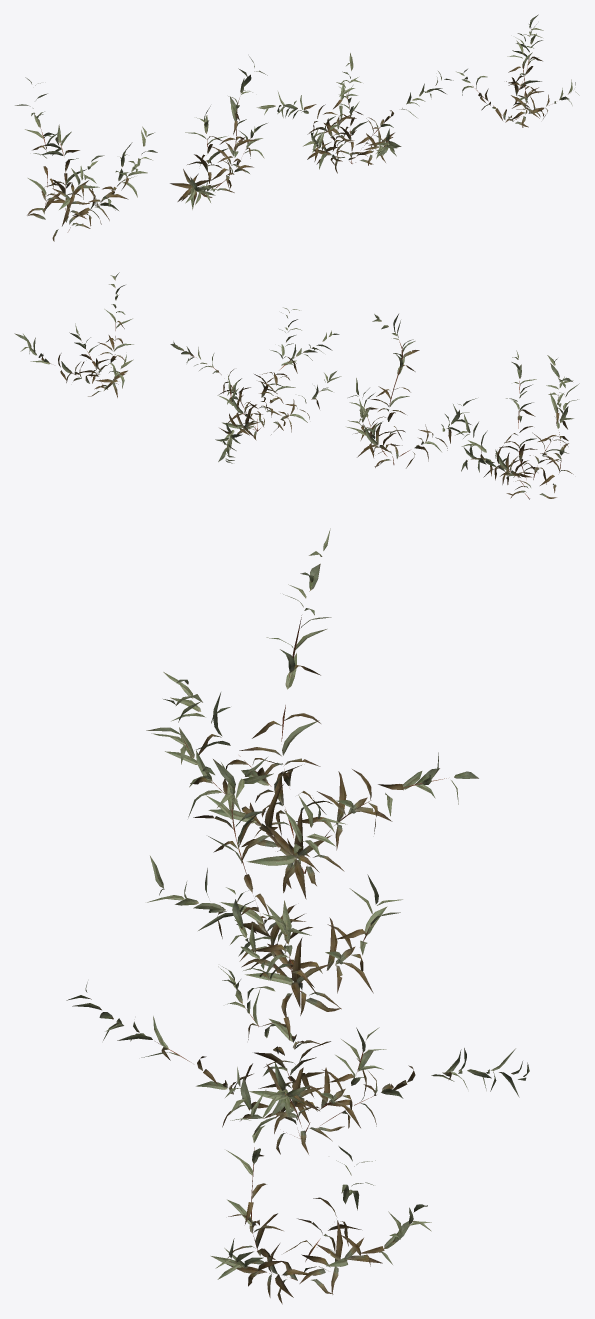
The model's file is buisson_sauvage_lod1.glb.
The picture shows the model from 3 angles, top to bottom: view 1: azimuth 30°, elevation 25°; view 2: azimuth 150°, elevation 25°; view 3: azimuth 270°, elevation 25°; orthographic projection. The views are drawn at different scales.
Parts seen in each view (by area): view 1: shrub_02_a; view 2: shrub_02_a; view 3: shrub_02_a.
Boxes of the visible parts, box(x1,y1,x2,y2) form: shrub_02_a: box(15, 14, 579, 241); shrub_02_a: box(14, 272, 579, 499); shrub_02_a: box(66, 528, 529, 1304).
Bounding box in the file's own units: 6.05 × 1.7 × 2.28.
Materials: 1 (1 with a texture image).
